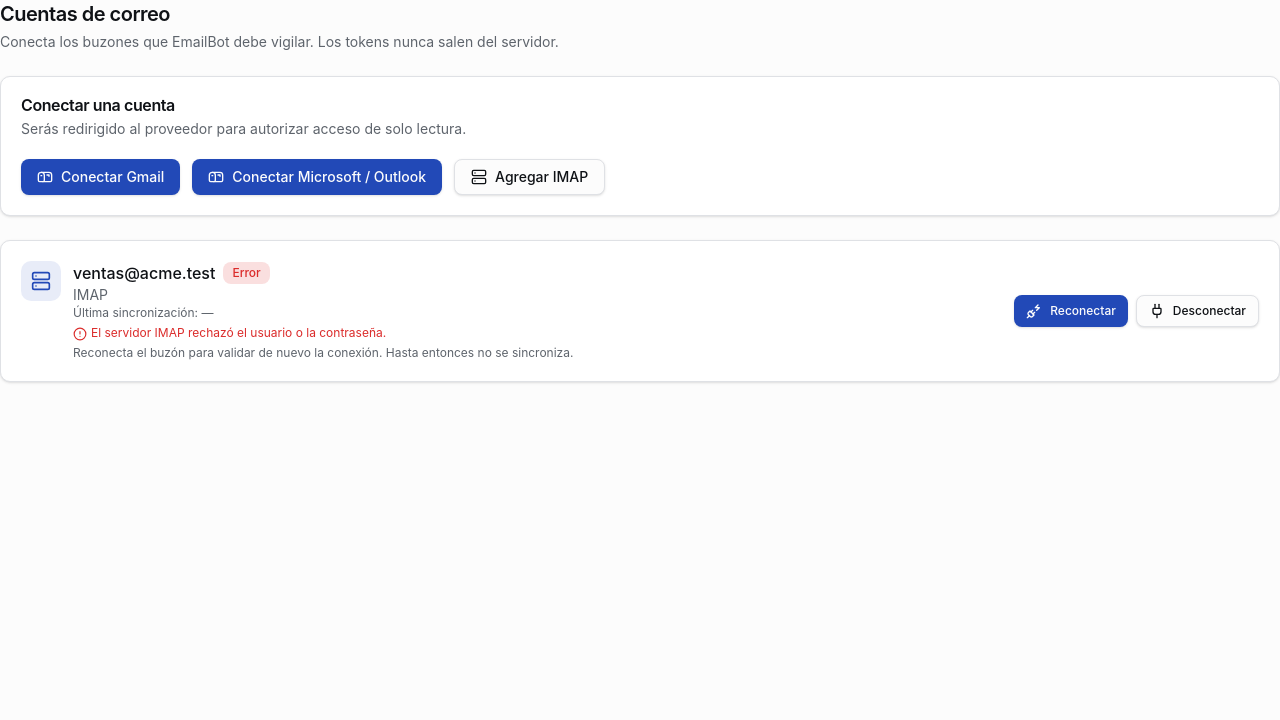
Test: M1.6 (W1): IMAP mailbox in ERROR › 'Agregar IMAP' still opens the add dialog (editable address, add title)
Click the button "Agregar IMAP" at [530, 177], box [454,159,605,195]
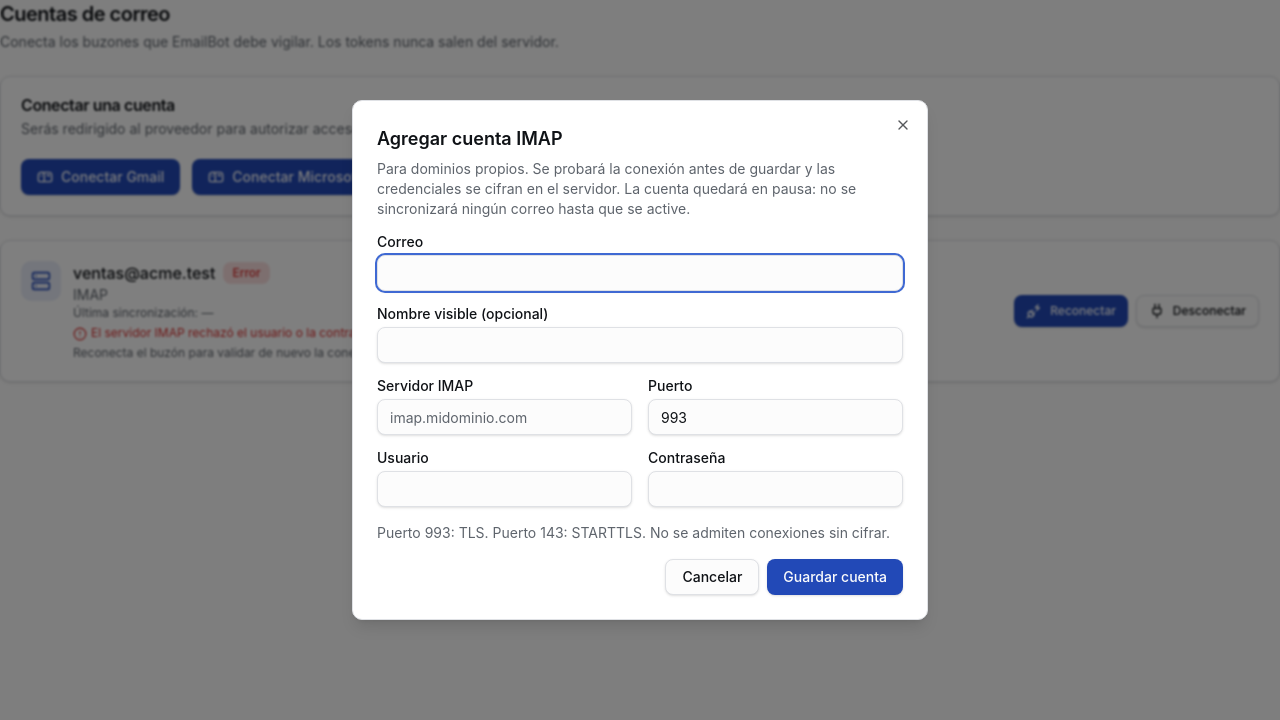
Check: the field labelled "Correo" is empty, box [377,255,903,291]
Check: the heading "Agregar cuenta IMAP" is shown, box [377,128,562,149]
